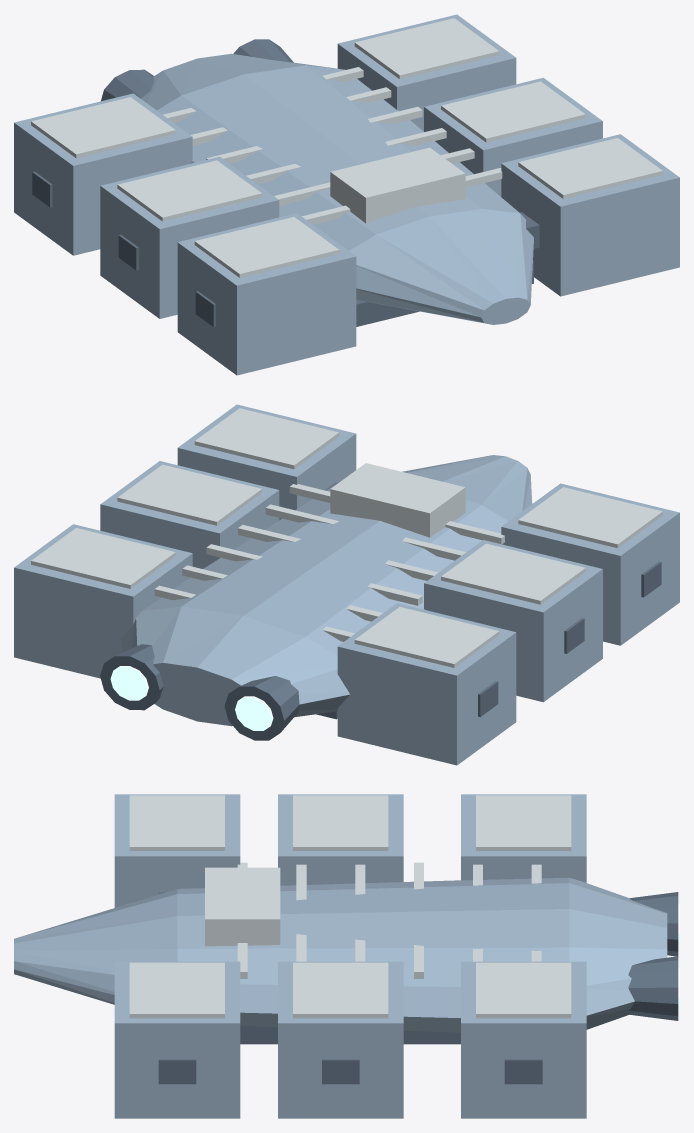
The picture shows the model from 3 angles, top to bottom: view 1: azimuth 30°, elevation 25°; view 2: azimuth 150°, elevation 25°; view 3: azimuth 270°, elevation 25°; orthographic projection. The views are drawn at different scales.
Size of the model in its own units: 7.85 by 1.75 by 9.54.
